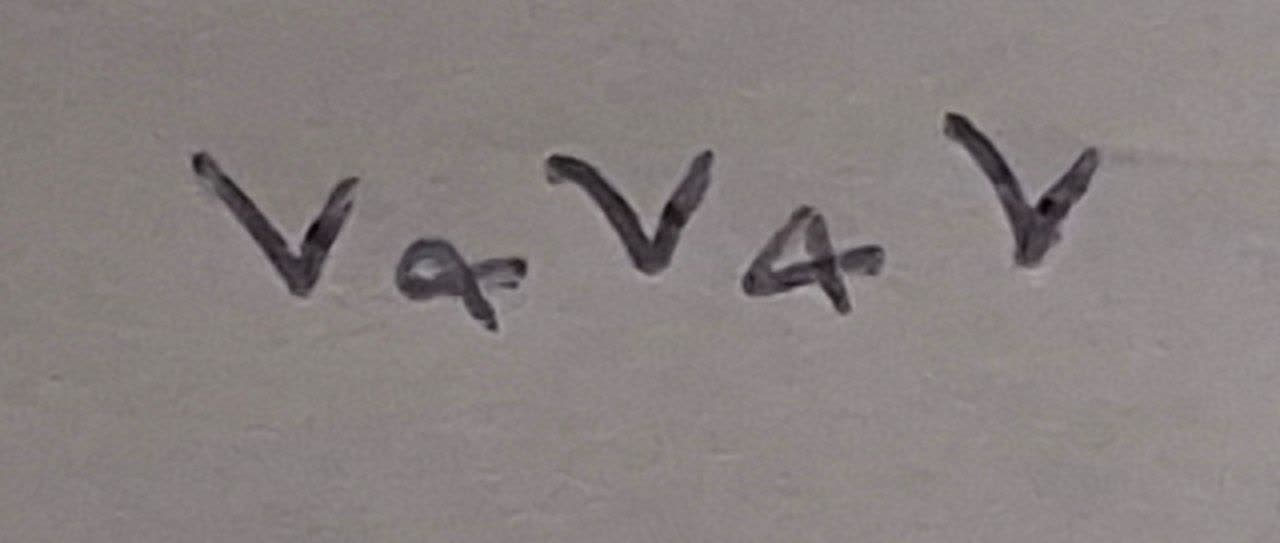character: (938, 103, 1100, 269), (187, 146, 360, 301), (540, 147, 716, 283), (741, 200, 887, 319), (393, 234, 531, 335)
